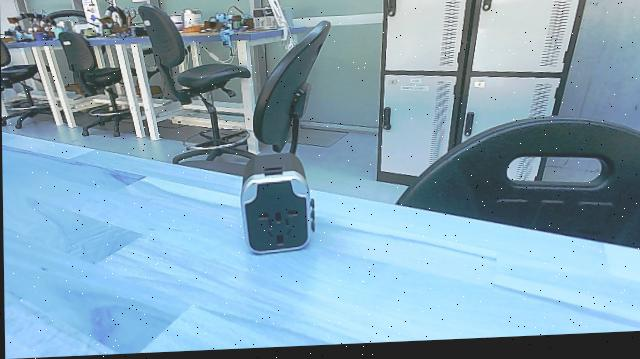adapter: (236, 151, 321, 262)
